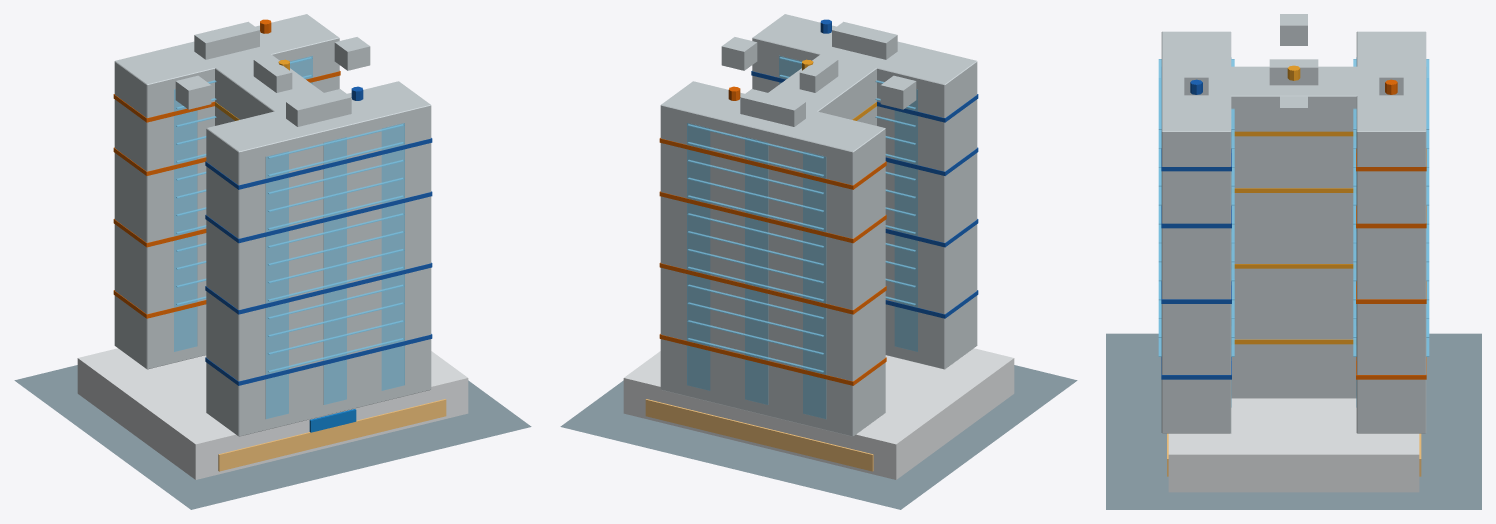
Rendered from ktx_khu_b.glb.
The picture shows the model from 3 angles, left to right: view 1: azimuth 30°, elevation 25°; view 2: azimuth 150°, elevation 25°; view 3: azimuth 270°, elevation 25°; orthographic projection. The views are drawn at different scales.
Parts seen in each view (by area): view 1: KTXB_S_Body, KTXB_N_Body, KTXB_Podium, KTXB_Plaza, KTXB_S_Glass_0, KTXB_S_Glass_2, KTXB_S_Glass_1, KTXB_N_Glass_0, KTXB_Shop_-1, KTXB_Mid_Body, KTXB_S_Tum, KTXB_N_Tum (+9 smaller); view 2: KTXB_N_Body, KTXB_S_Body, KTXB_Podium, KTXB_Plaza, KTXB_N_Glass_0, KTXB_N_Glass_2, KTXB_N_Glass_1, KTXB_S_Glass_0, KTXB_Shop_1, KTXB_Mid_Body, KTXB_N_Tum, KTXB_S_Tum (+8 smaller); view 3: KTXB_Mid_Body, KTXB_N_Body, KTXB_S_Body, KTXB_Plaza, KTXB_Podium, KTXB_Mid_Tum, KTXB_N_Tum, KTXB_S_Tum, KTXB_CornerTum_1, KTXB_CornerTum_-1, KTXB_Mid_Paint_3, KTXB_Mid_Paint_14 (+4 smaller).
Boxes of the visible parts, box(x1,y1,x2,y2) form: KTXB_S_Body: box(206, 81, 431, 436); KTXB_N_Body: box(114, 14, 339, 369); KTXB_Podium: box(77, 348, 468, 479); KTXB_Plaza: box(14, 365, 531, 509); KTXB_S_Glass_0: box(265, 151, 288, 418); KTXB_S_Glass_2: box(381, 123, 404, 390); KTXB_S_Glass_1: box(323, 137, 346, 404); KTXB_N_Glass_0: box(174, 89, 197, 351); KTXB_Shop_-1: box(218, 399, 446, 471); KTXB_Mid_Body: box(213, 52, 323, 125); KTXB_S_Tum: box(286, 89, 351, 126); KTXB_N_Tum: box(194, 21, 259, 59); KTXB_N_Body: box(660, 81, 885, 436); KTXB_S_Body: box(752, 14, 977, 369); KTXB_Podium: box(623, 348, 1014, 479); KTXB_Plaza: box(560, 365, 1077, 509); KTXB_N_Glass_0: box(803, 151, 826, 418); KTXB_N_Glass_2: box(687, 123, 710, 390); KTXB_N_Glass_1: box(745, 137, 768, 404); KTXB_S_Glass_0: box(894, 89, 917, 351); KTXB_Shop_1: box(645, 399, 873, 471); KTXB_Mid_Body: box(768, 54, 876, 125); KTXB_N_Tum: box(740, 89, 805, 126); KTXB_S_Tum: box(832, 21, 897, 59); KTXB_Mid_Body: box(1225, 66, 1362, 398); KTXB_N_Body: box(1356, 31, 1426, 433); KTXB_S_Body: box(1161, 31, 1231, 433); KTXB_Plaza: box(1106, 333, 1481, 509); KTXB_Podium: box(1168, 398, 1419, 492); KTXB_Mid_Tum: box(1269, 59, 1318, 85); KTXB_N_Tum: box(1379, 49, 1403, 95); KTXB_S_Tum: box(1184, 49, 1208, 95); KTXB_CornerTum_1: box(1280, 96, 1307, 128); KTXB_CornerTum_-1: box(1280, 14, 1307, 45); KTXB_Mid_Paint_3: box(1234, 339, 1353, 344); KTXB_Mid_Paint_14: box(1234, 131, 1353, 136).
Size of the model in its own units: 60 by 57.2 by 54.
